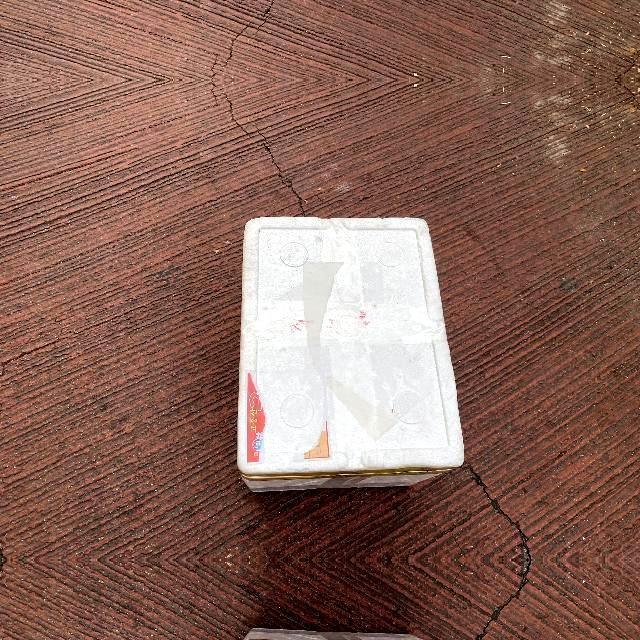Styrofoam: (232, 212, 468, 492), (237, 217, 465, 492)
